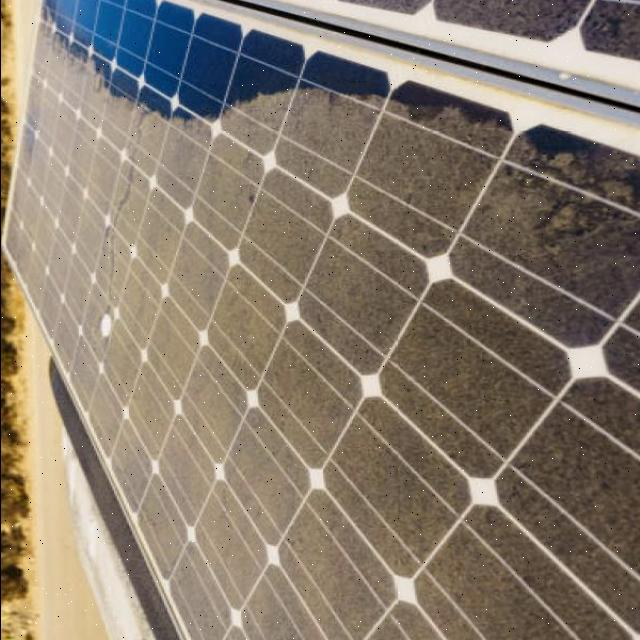Surface Contaminant: (2, 6, 640, 640), (320, 0, 640, 68)
